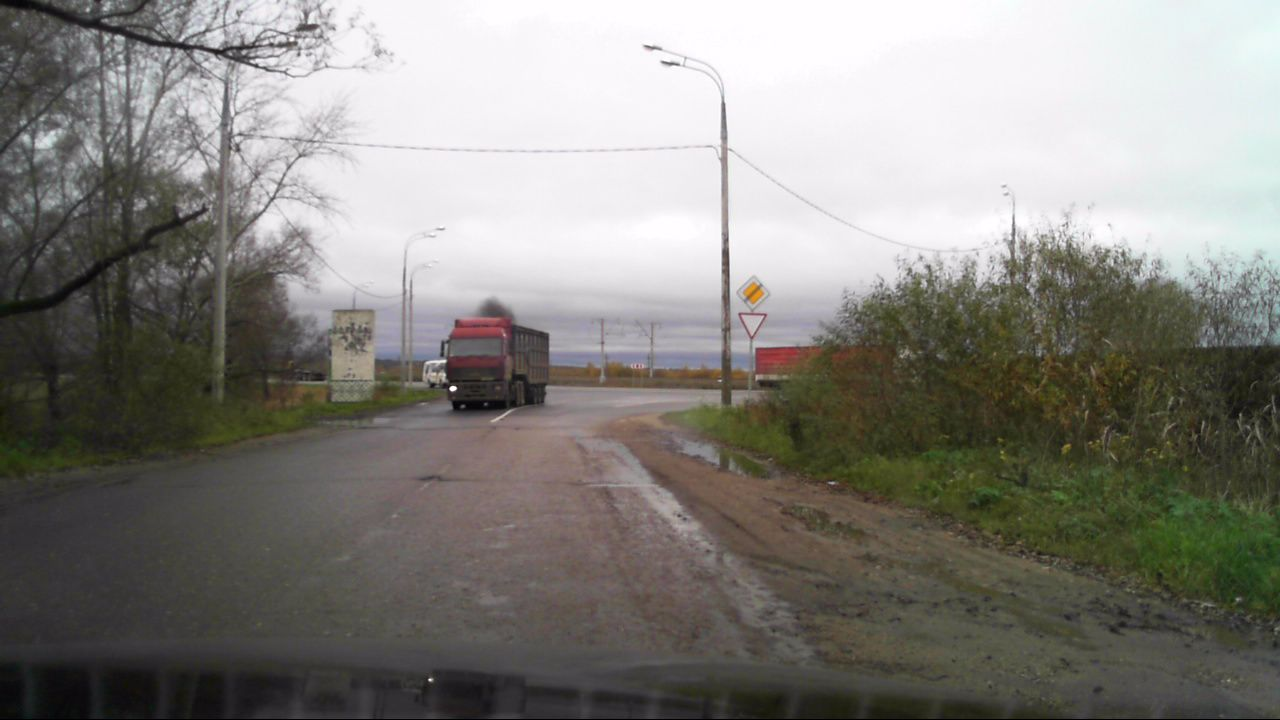main road: (736, 274, 770, 311)
